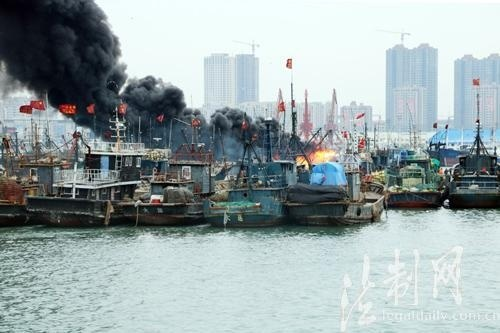fire: (300, 148, 337, 165)
